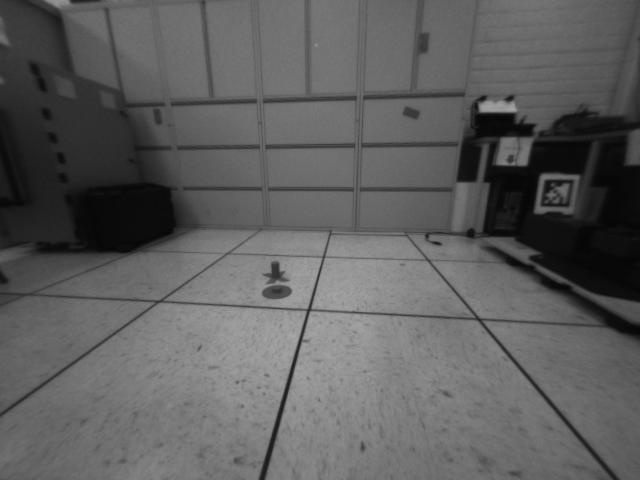X: (262, 261, 287, 283)
